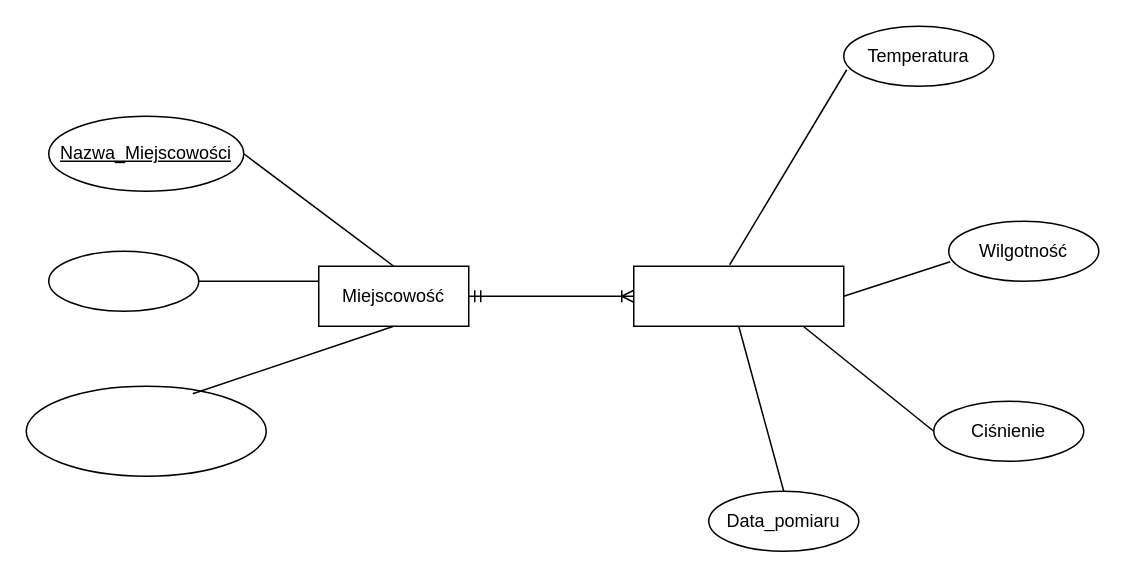
The diagram is 1125 pixels wide and 578 high, and some of its shapes have lost their labels. The shapes that lost their labels are listed below. From the top down, each one's centre as x and y in pixels, then its label:
At [123,280]: "Województwo".
At [738,295]: "Dane_meterologiczne".
At [145,430]: "Współrzędne_geograficzne".
